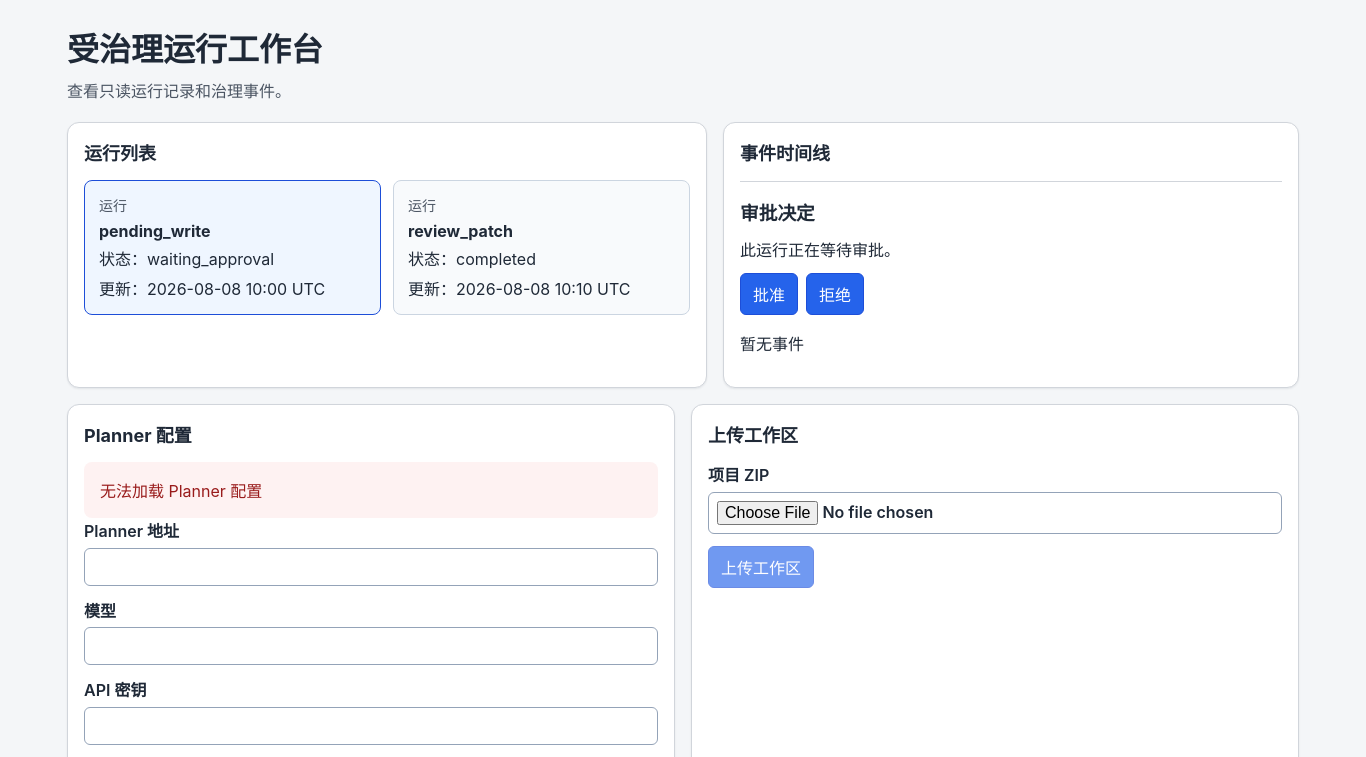
App › keeps a newly selected detail when an earlier approval finishes late
The image size is (1366, 757).
Click the button "批准" at (769, 294), box [740,273,798,315]
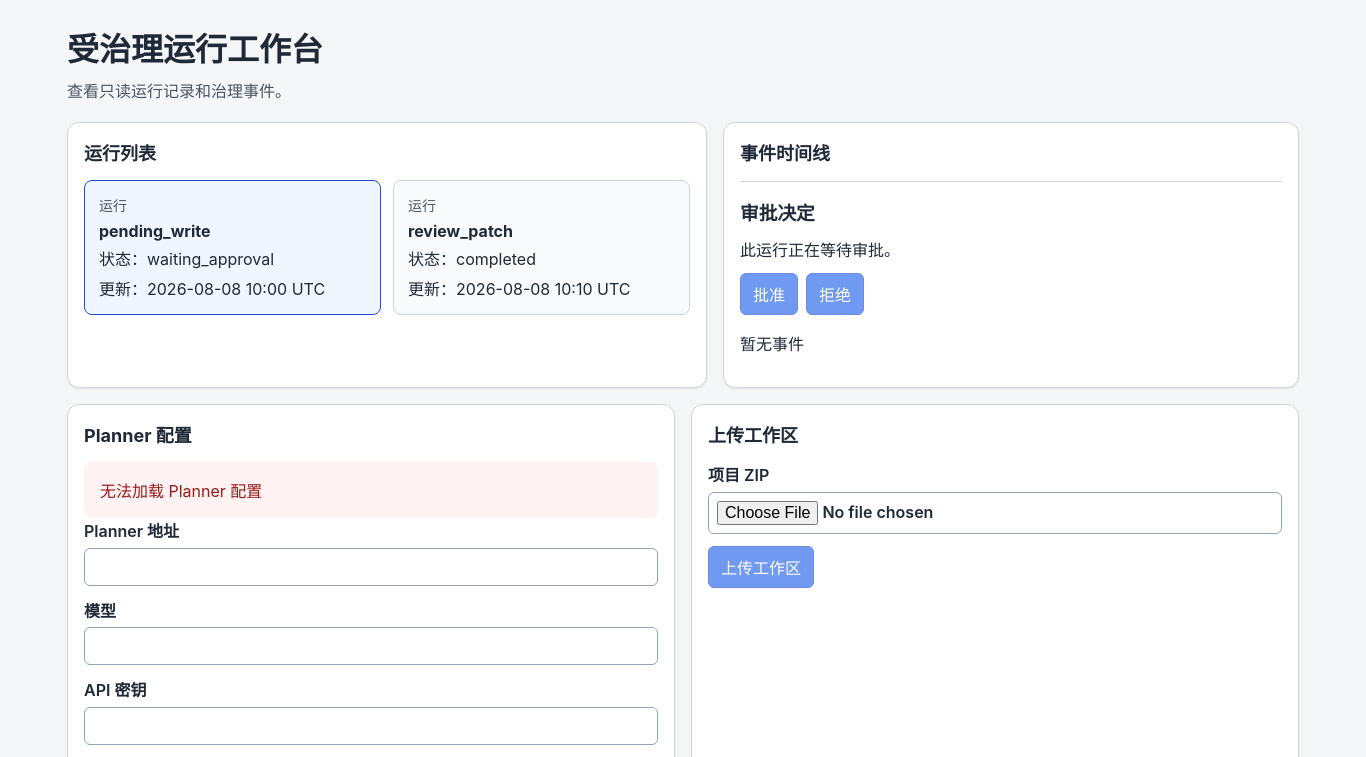
Click the button "运行 review_patch 状态：completed 更新：2026-08-08 10:10 UTC" at (460, 231), box [393,180,690,315]
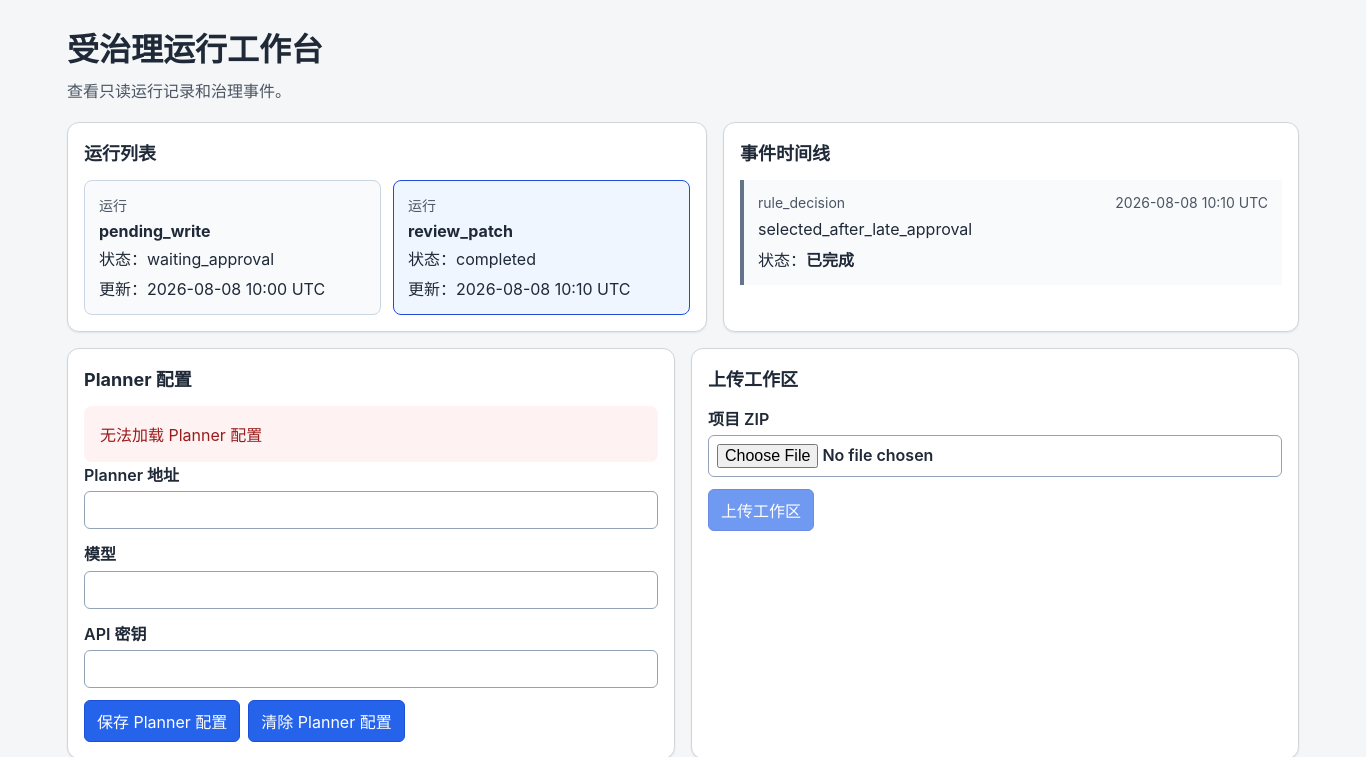
Expected: the text "selected_after_late_approval" is shown, [758,219,972,239]
